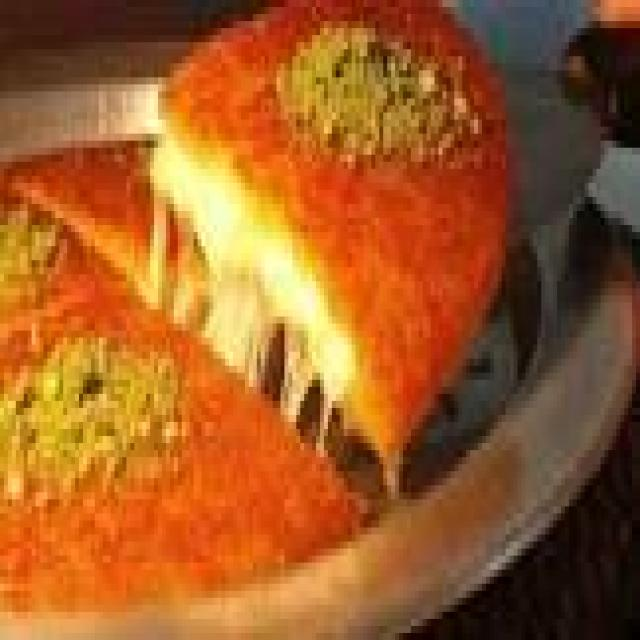konafa: (0, 0, 525, 619)
